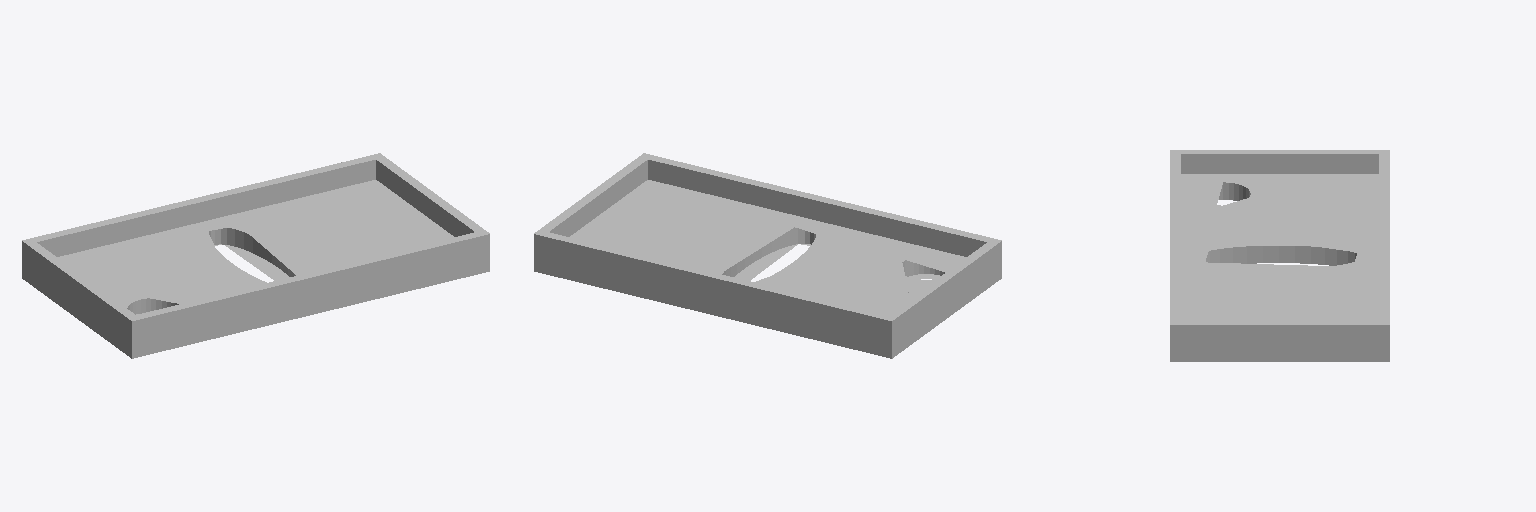
File: night1.obj
3 renders of one model, left to right at view 1: azimuth 30°, elevation 25°; view 2: azimuth 150°, elevation 25°; view 3: azimuth 270°, elevation 25°, orthographic.
Parts seen in each view (by area): view 1: Cube; view 2: Cube; view 3: Cube.
Boxes of the visible parts, box(x1,y1,x2,y2) form: Cube: box(22, 153, 489, 358); Cube: box(534, 153, 1001, 358); Cube: box(1170, 150, 1389, 361).
Size of the model in its own units: 3 by 0.3 by 1.6.